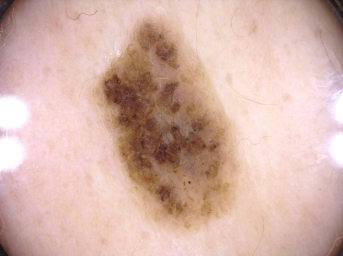seborrheic keratosis: (80, 4, 251, 234)
